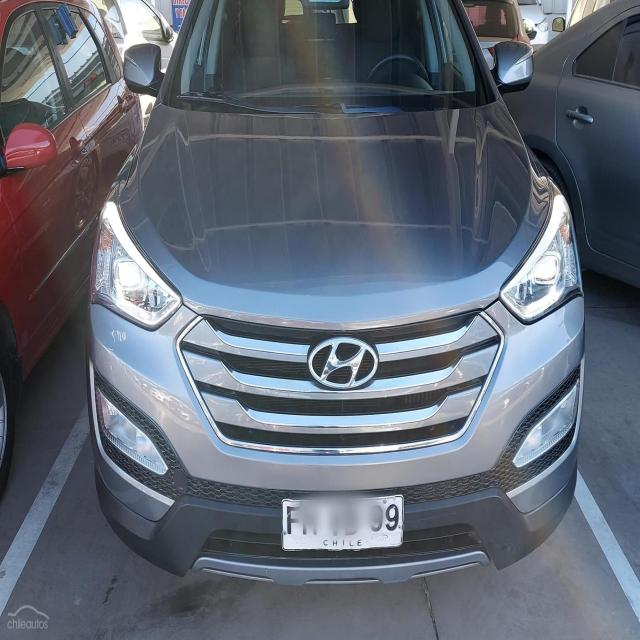patente: (281, 493, 404, 552)
